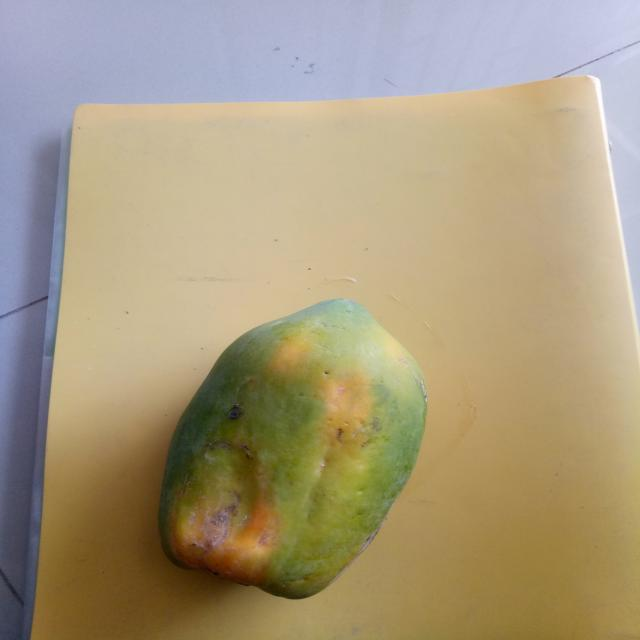Pepaya rippen: (147, 288, 422, 604)
